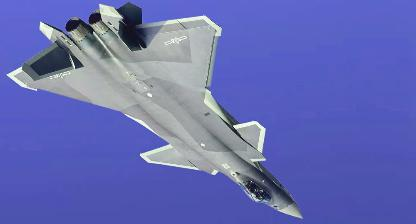F4: (6, 3, 304, 220)
